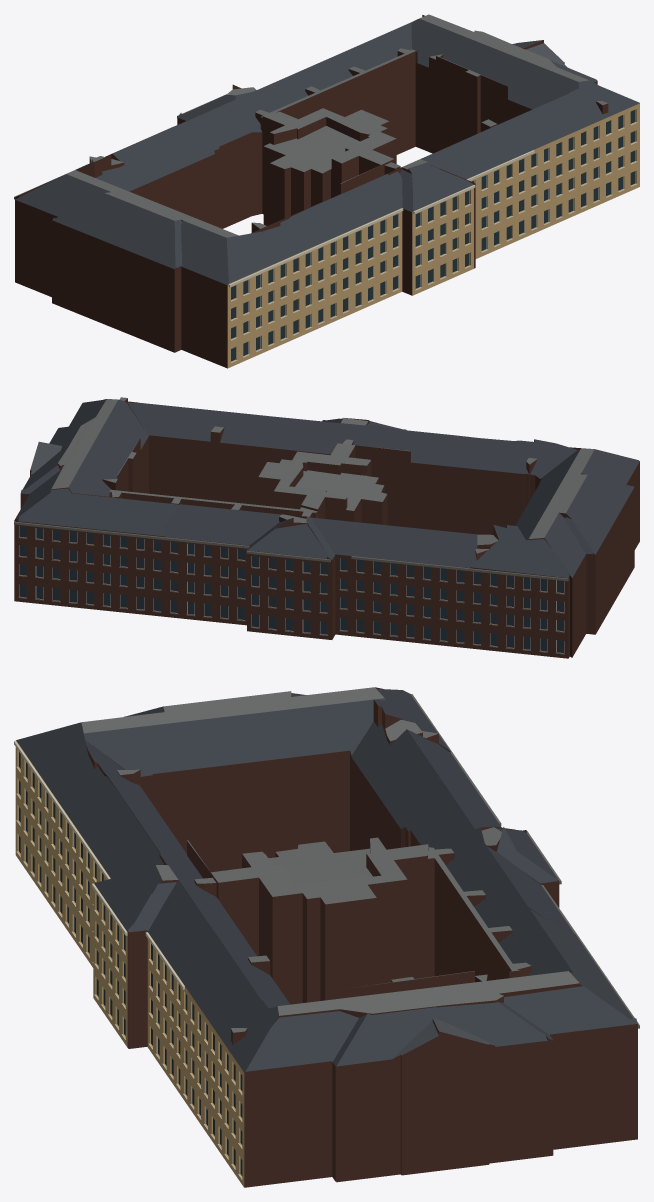
Rendered from recipe-large-kattenburg-wings-164938.glb.
3 views of the same model, one above another, from view 1: azimuth 30°, elevation 25°; view 2: azimuth 150°, elevation 25°; view 3: azimuth 270°, elevation 25° (orthographic). The views are drawn at different scales.
Parts seen in each view (by area): view 1: kattenburg-wings-164938; view 2: kattenburg-wings-164938; view 3: kattenburg-wings-164938.
Boxes of the visible parts, left/top/right/bottom form: kattenburg-wings-164938: left=14, top=14, right=639, bottom=368; kattenburg-wings-164938: left=14, top=397, right=639, bottom=658; kattenburg-wings-164938: left=14, top=687, right=639, bottom=1187.
Size of the model in its own units: 112 by 21.18 by 78.07.
